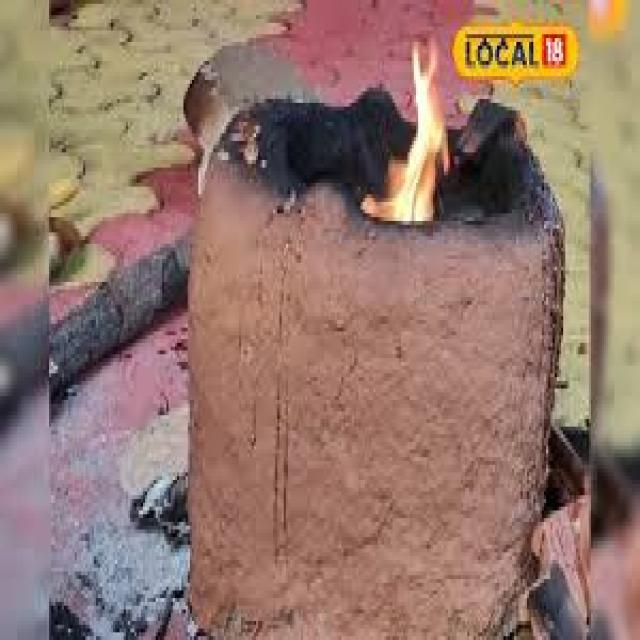fire: (361, 34, 449, 225)
